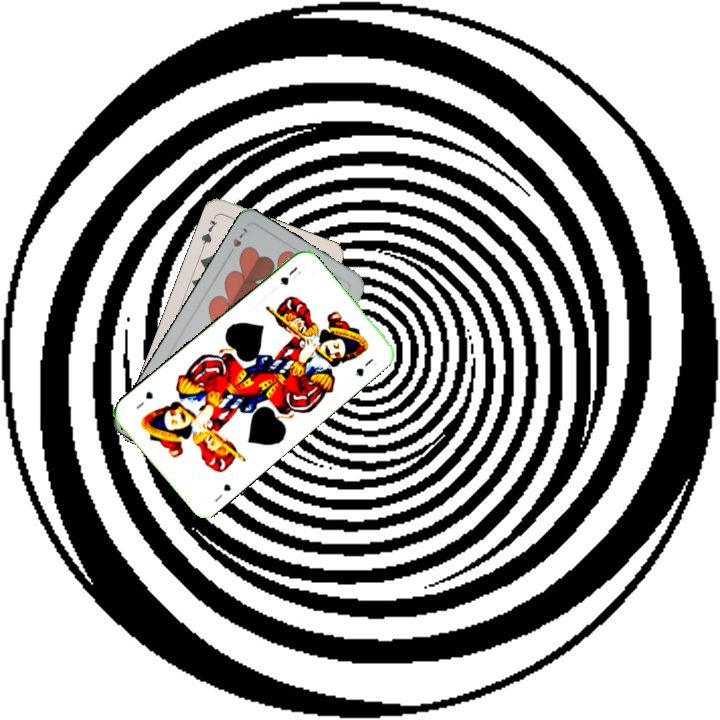G7: (197, 212, 220, 251)
GU: (276, 262, 300, 288), (210, 479, 234, 505)
H7: (223, 223, 251, 259)
